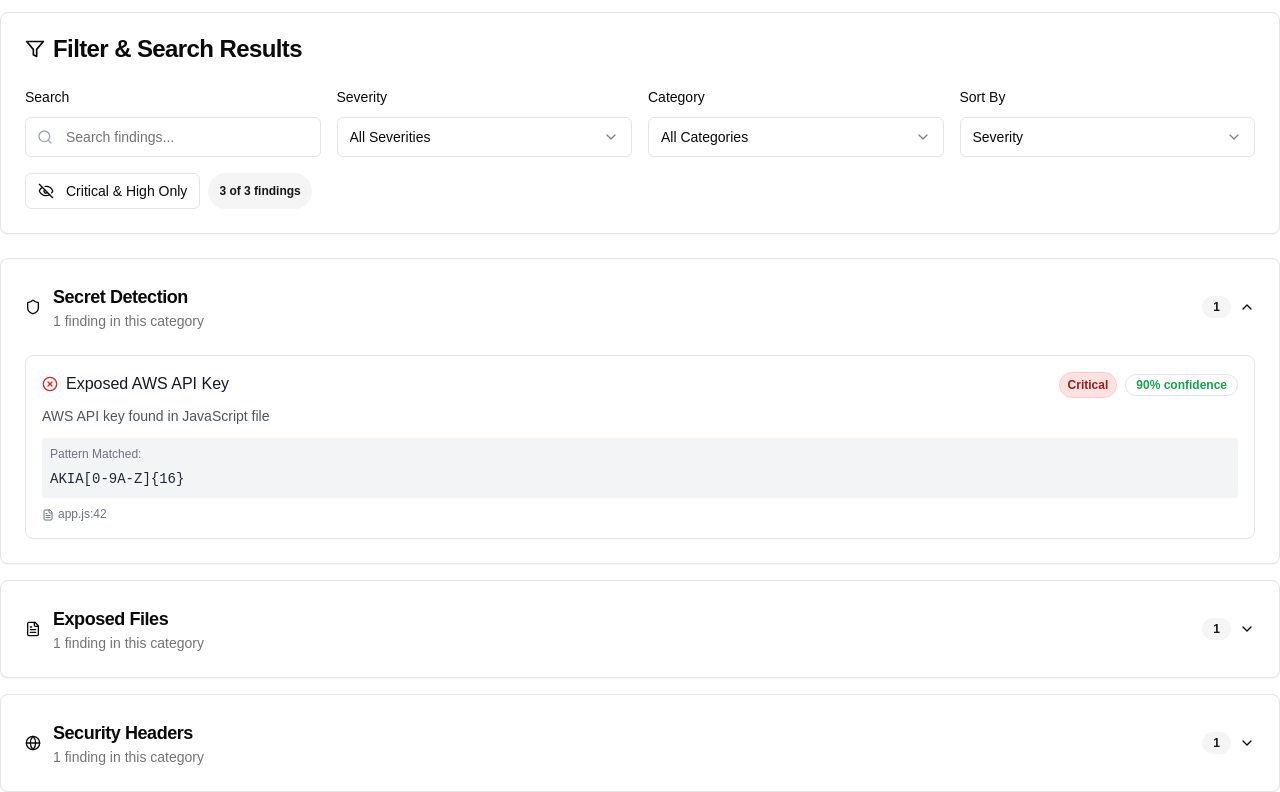
Test: EnhancedResultsDisplay › shows findings when category is expanded
(page scrolled)
Expected: the heading "Exposed AWS API Key" is shown, [66, 372, 229, 396]
// Click on headers category to expand it
Click the text "Security Headers": [128, 733] box [53, 719, 204, 747]
(page scrolled)
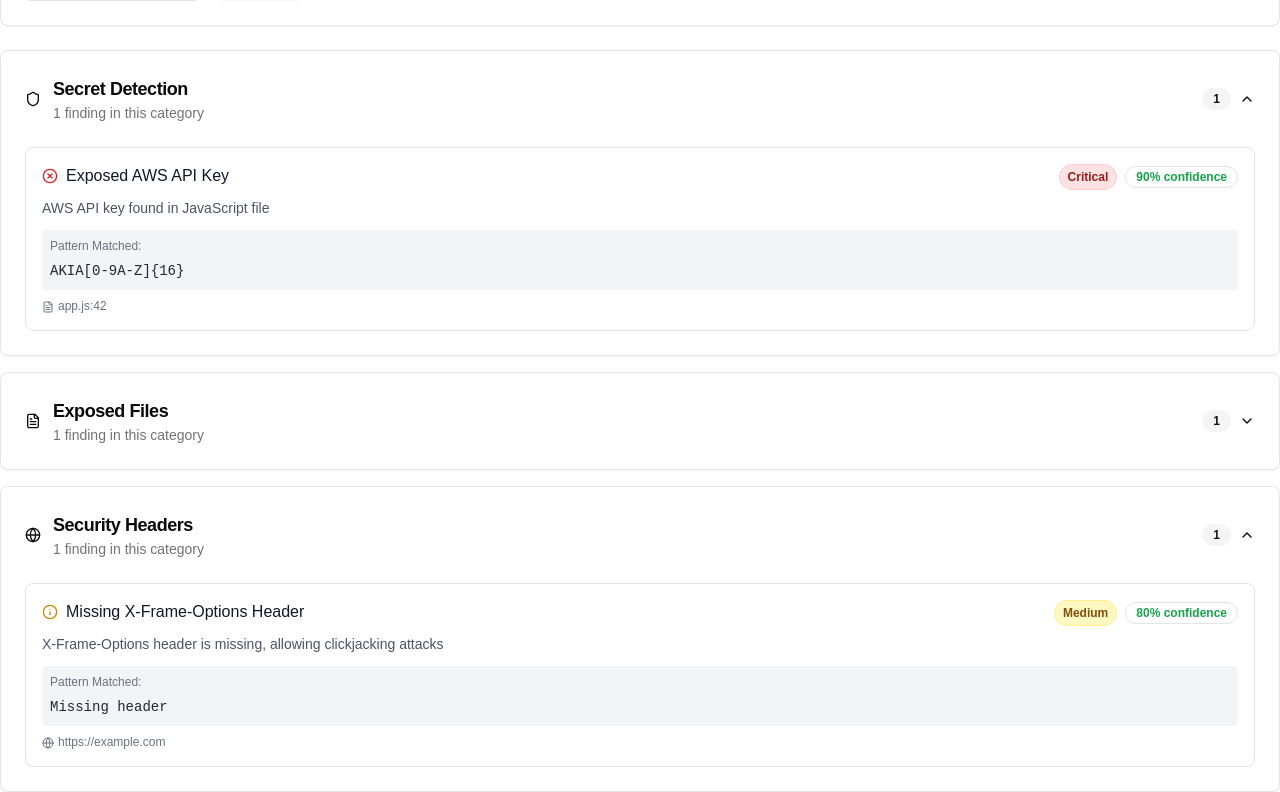
Expected: the heading "Missing X-Frame-Options Header" is shown, [66, 600, 304, 624]
